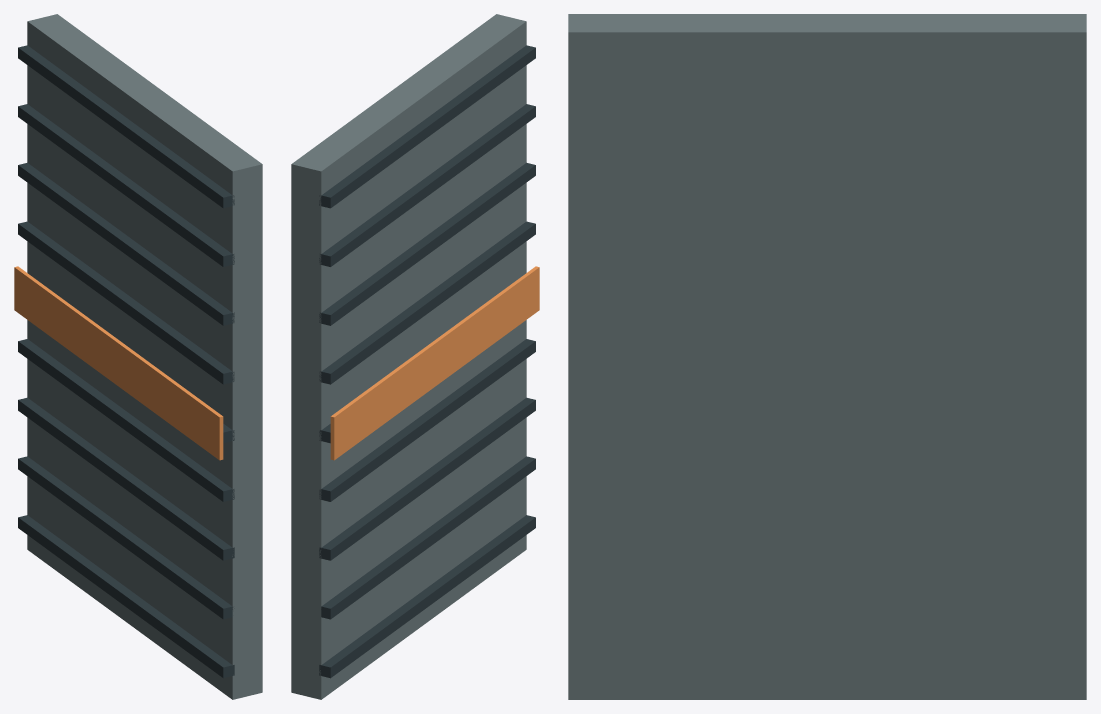
File: shutter.glb
3 renders of one model, left to right at view 1: azimuth 30°, elevation 25°; view 2: azimuth 150°, elevation 25°; view 3: azimuth 270°, elevation 25°, orthographic. The views are drawn at different scales.
Parts seen in each view (by area): view 1: leaf, warning_stripe, rib_2, rib_0, rib_6, rib_7, rib_5, rib_8, rib_3, rib_1; view 2: leaf, warning_stripe, rib_2, rib_0, rib_6, rib_3, rib_5, rib_8, rib_7, rib_1; view 3: leaf.
Boxes of the visible parts, box(x1,y1,x2,y2) form: leaf: box(27, 14, 262, 699); warning_stripe: box(14, 266, 223, 460); rib_2: box(18, 397, 234, 560); rib_0: box(18, 515, 234, 678); rib_6: box(18, 162, 234, 325); rib_7: box(18, 104, 234, 266); rib_5: box(18, 221, 234, 384); rib_8: box(18, 45, 234, 208); rib_3: box(18, 339, 234, 501); rib_1: box(18, 456, 234, 619); leaf: box(291, 14, 526, 699); warning_stripe: box(330, 266, 539, 460); rib_2: box(319, 397, 535, 560); rib_0: box(319, 515, 535, 678); rib_6: box(319, 162, 535, 325); rib_3: box(319, 339, 535, 501); rib_5: box(319, 221, 535, 384); rib_8: box(319, 45, 535, 208); rib_7: box(319, 104, 535, 266); rib_1: box(321, 456, 535, 619); leaf: box(568, 14, 1086, 699).
Bounding box in the file's own units: 0.23 × 2.7 × 1.9.
